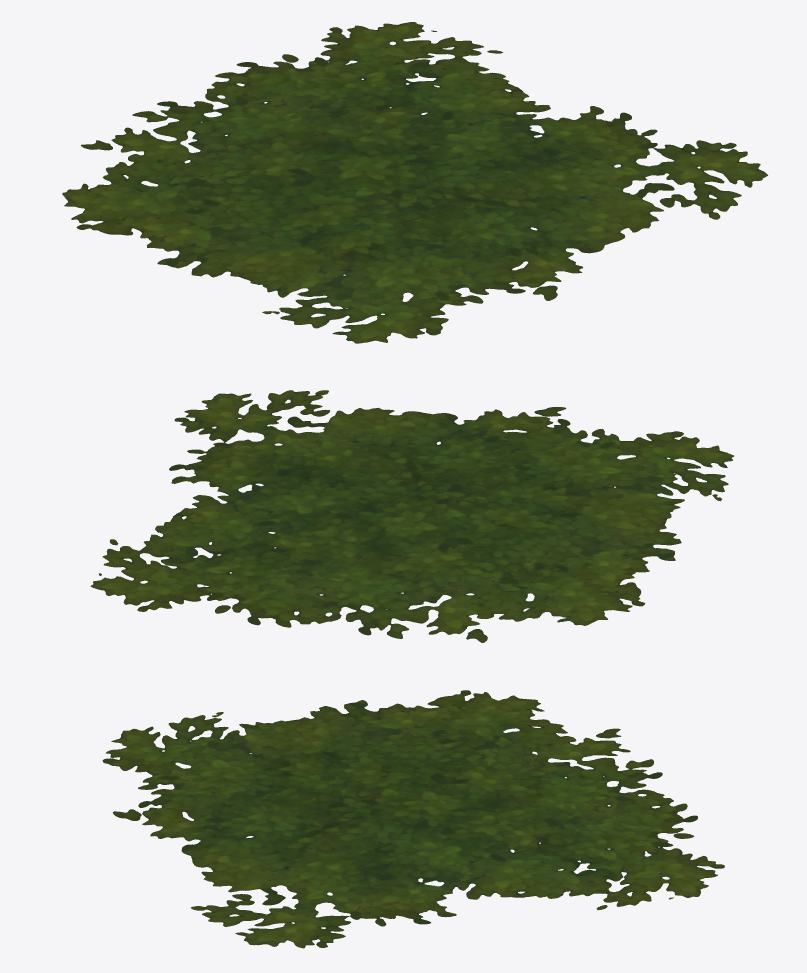
File: tussock_01.fbx
3 views of the same model, one above another, from view 1: azimuth 30°, elevation 25°; view 2: azimuth 150°, elevation 25°; view 3: azimuth 270°, elevation 25° (orthographic). The views are drawn at different scales.
Parts seen in each view (by area): view 1: obj0.024; view 2: obj0.024; view 3: obj0.024.
Part boxes in pixels (box(x1,y1,x2,y2)): obj0.024: box(62, 22, 767, 343); obj0.024: box(90, 390, 734, 642); obj0.024: box(102, 690, 724, 948).
Size of the model in its own units: 10.92 by 0.1495 by 13.19.
